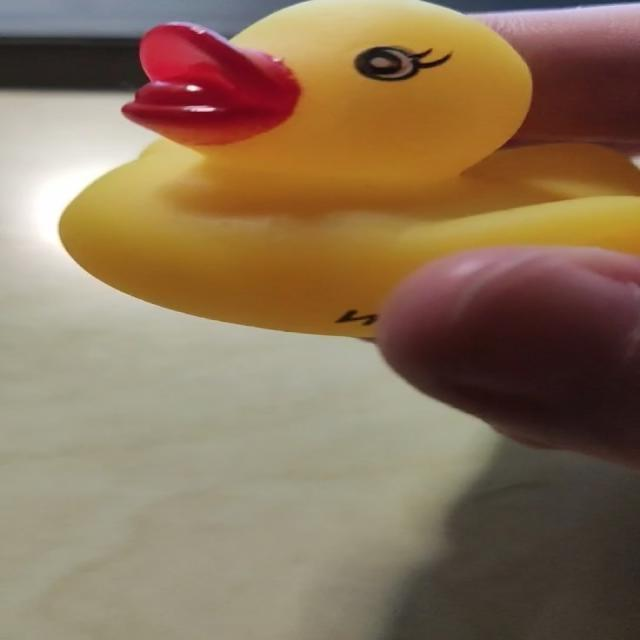rubber-duck: (59, 0, 638, 336), (552, 7, 638, 141)
